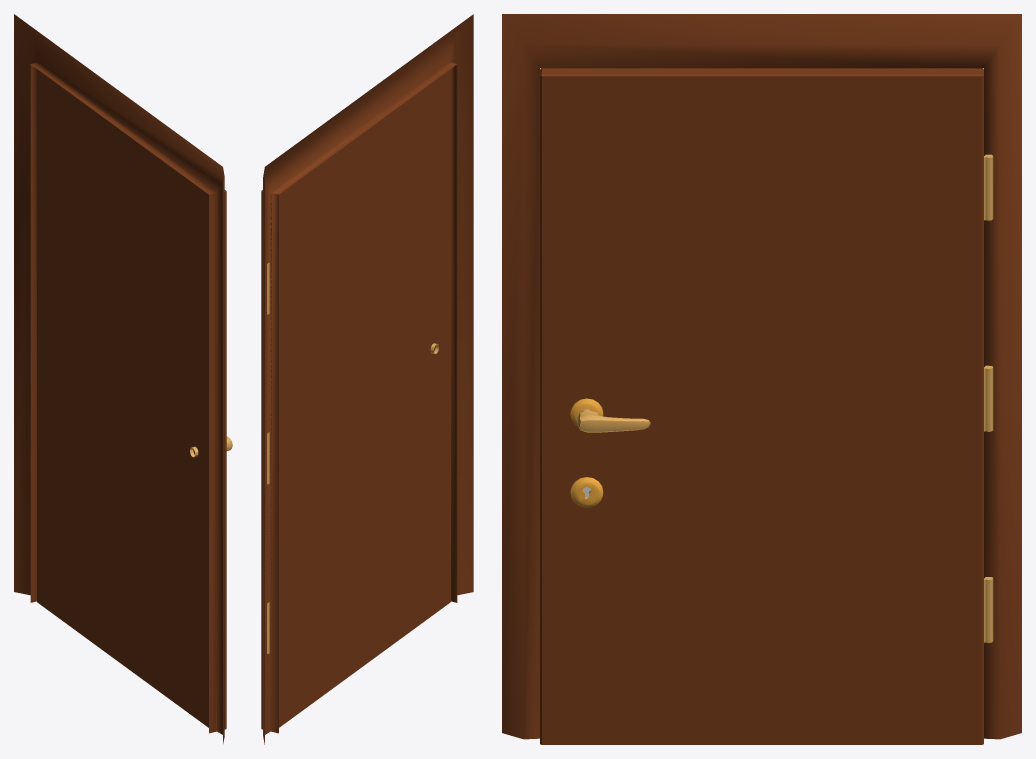
The model's file is Door_nib_v01.fbx.
The picture shows the model from 3 angles, left to right: view 1: azimuth 30°, elevation 25°; view 2: azimuth 150°, elevation 25°; view 3: azimuth 270°, elevation 25°; orthographic projection. The views are drawn at different scales.
Visible parts, largest first — view 1: Door, Door_frame; view 2: Door, Door_frame, Door_hinge; view 3: Door, Door_frame, Door_hinge, Cube.001.
Part boxes in pixels (left/top/right/bottom): Door: left=37, top=69, right=226, bottom=731; Door_frame: left=14, top=14, right=224, bottom=743; Door: left=261, top=68, right=450, bottom=729; Door_frame: left=263, top=14, right=473, bottom=744; Door_hinge: left=267, top=263, right=269, bottom=653; Door: left=540, top=68, right=983, bottom=744; Door_frame: left=502, top=14, right=1021, bottom=739; Door_hinge: left=984, top=154, right=993, bottom=642; Cube.001: left=577, top=409, right=650, bottom=432.
Size of the model in its own units: 16.33 by 215 by 141.
